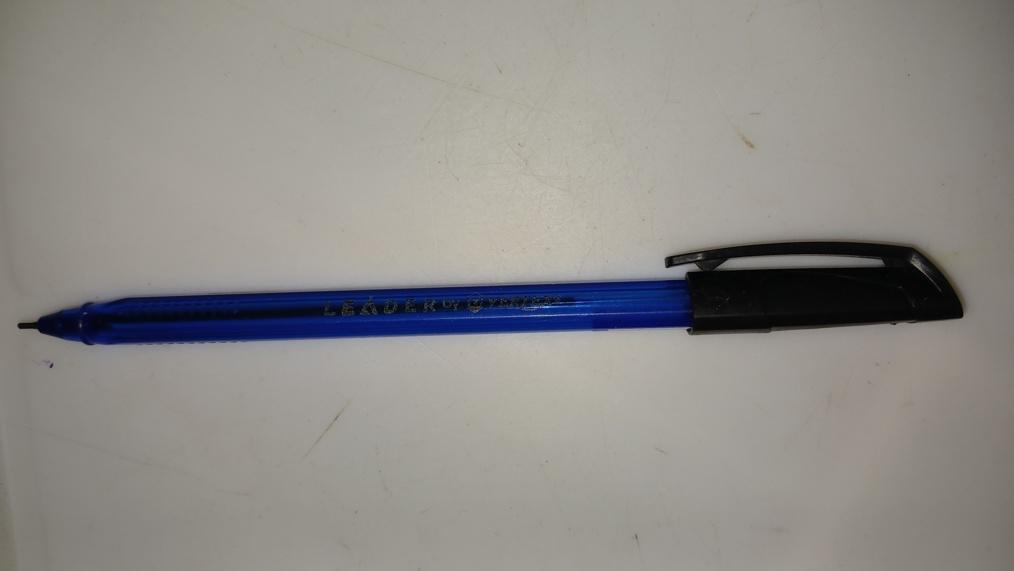pen: (8, 238, 974, 345)
